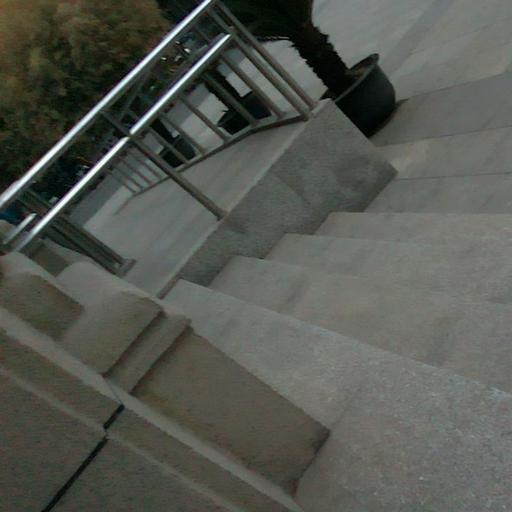stairs: (166, 213, 511, 511)
